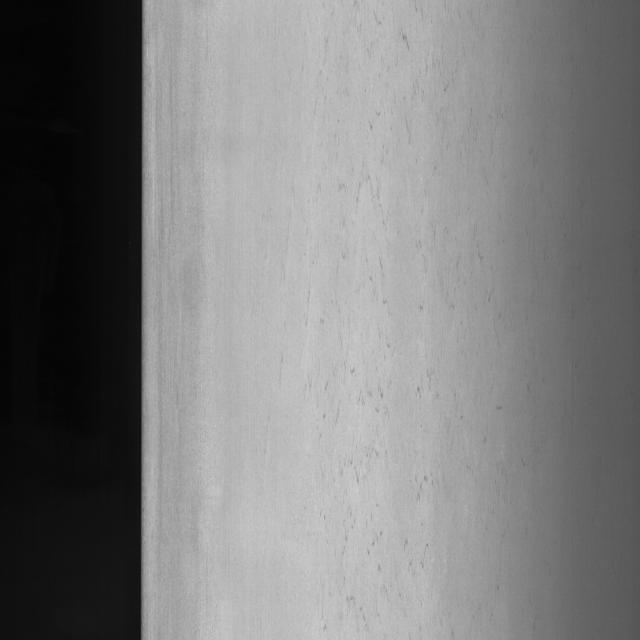inclusion: (305, 33, 497, 640)
